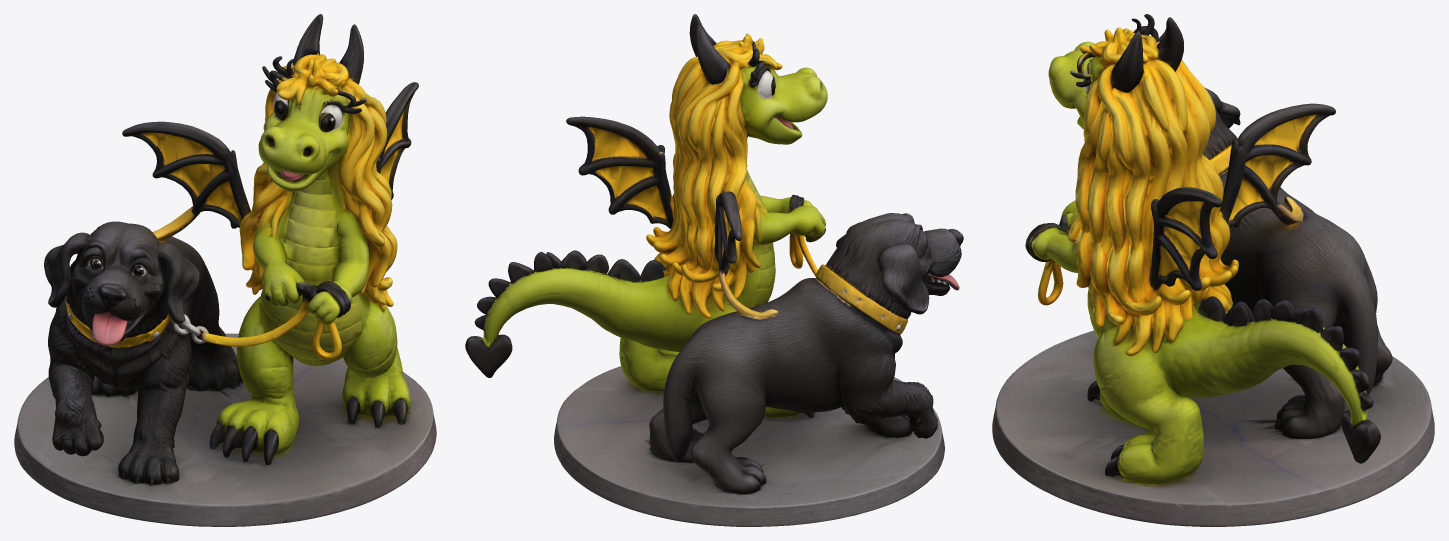
Rendered from drache.glb.
3 views of the same model, side by side, from view 1: azimuth 30°, elevation 25°; view 2: azimuth 150°, elevation 25°; view 3: azimuth 270°, elevation 25° (orthographic). The views are drawn at different scales.
Bounding box in the file's own units: 0.9805 × 0.9424 × 0.8347.
Materials: 11 (11 with a texture image).
